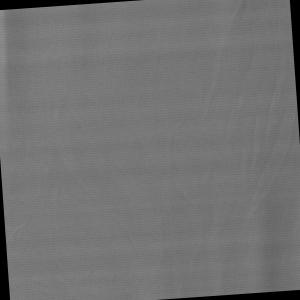Wrinkle: (198, 1, 300, 296)
